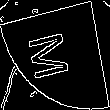M_E: (30, 27, 80, 83)
